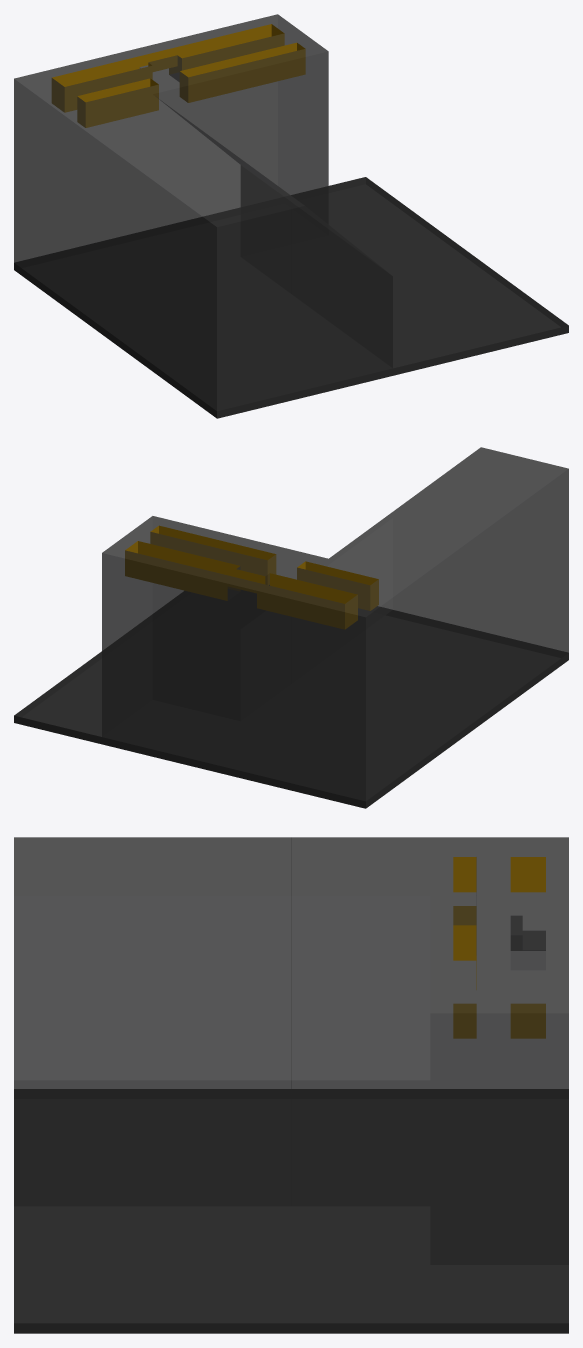
File: blank003.gltf
3 renders of one model, top to bottom at view 1: azimuth 30°, elevation 25°; view 2: azimuth 150°, elevation 25°; view 3: azimuth 270°, elevation 25°, orthographic. The views are drawn at different scales.
Parts seen in each view (by area): view 1: blank003; view 2: blank003; view 3: blank003.
Part boxes in pixels (bbox=[...]): blank003: bbox=[14, 14, 568, 418]; blank003: bbox=[14, 447, 568, 808]; blank003: bbox=[14, 837, 568, 1333].
Bounding box in the file's own units: 0.1 × 0.052 × 0.1.
